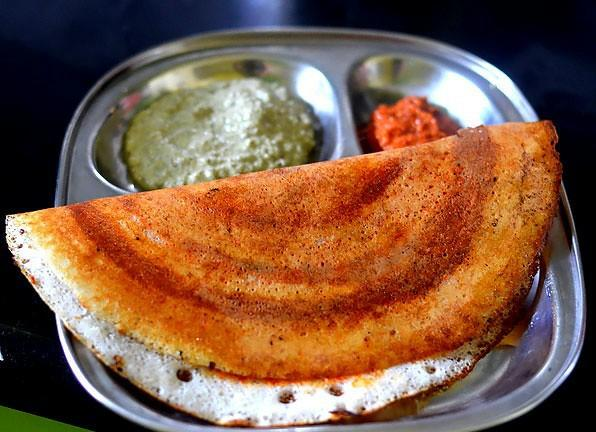Dosa: (7, 123, 559, 428)
